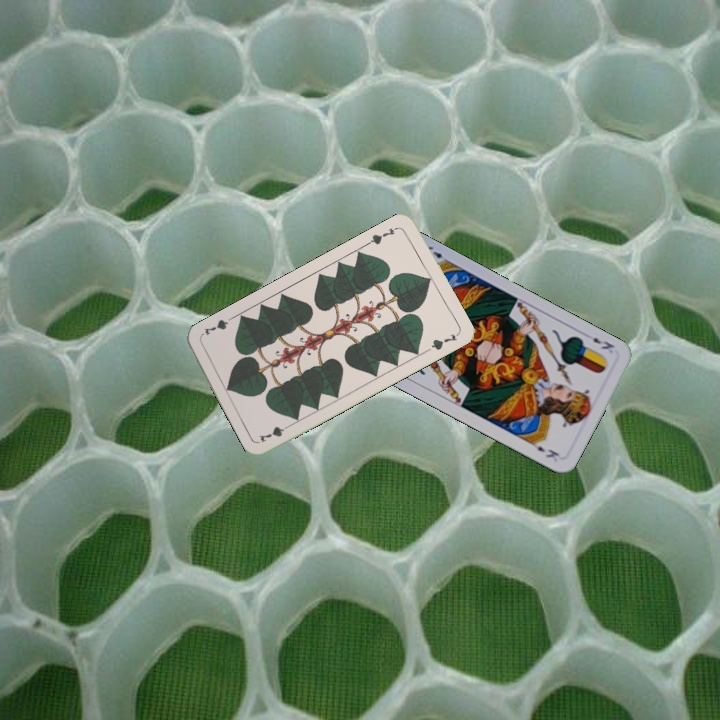EK: (589, 333, 617, 352)
G7: (255, 420, 294, 445), (364, 223, 401, 247)
